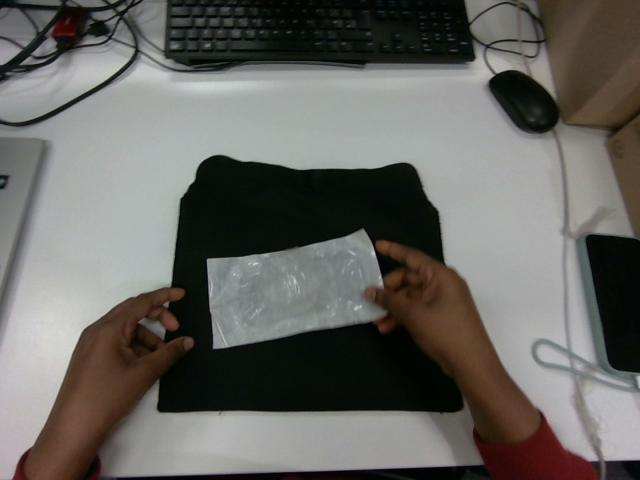gallipot: (207, 229, 384, 348)
